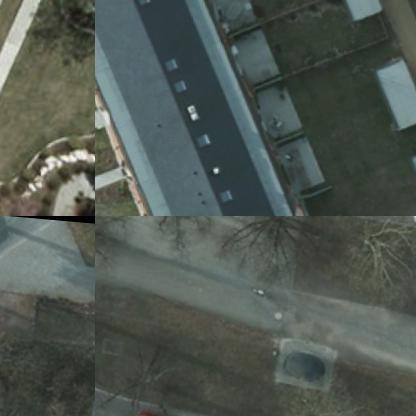car: (128, 403, 193, 415)
